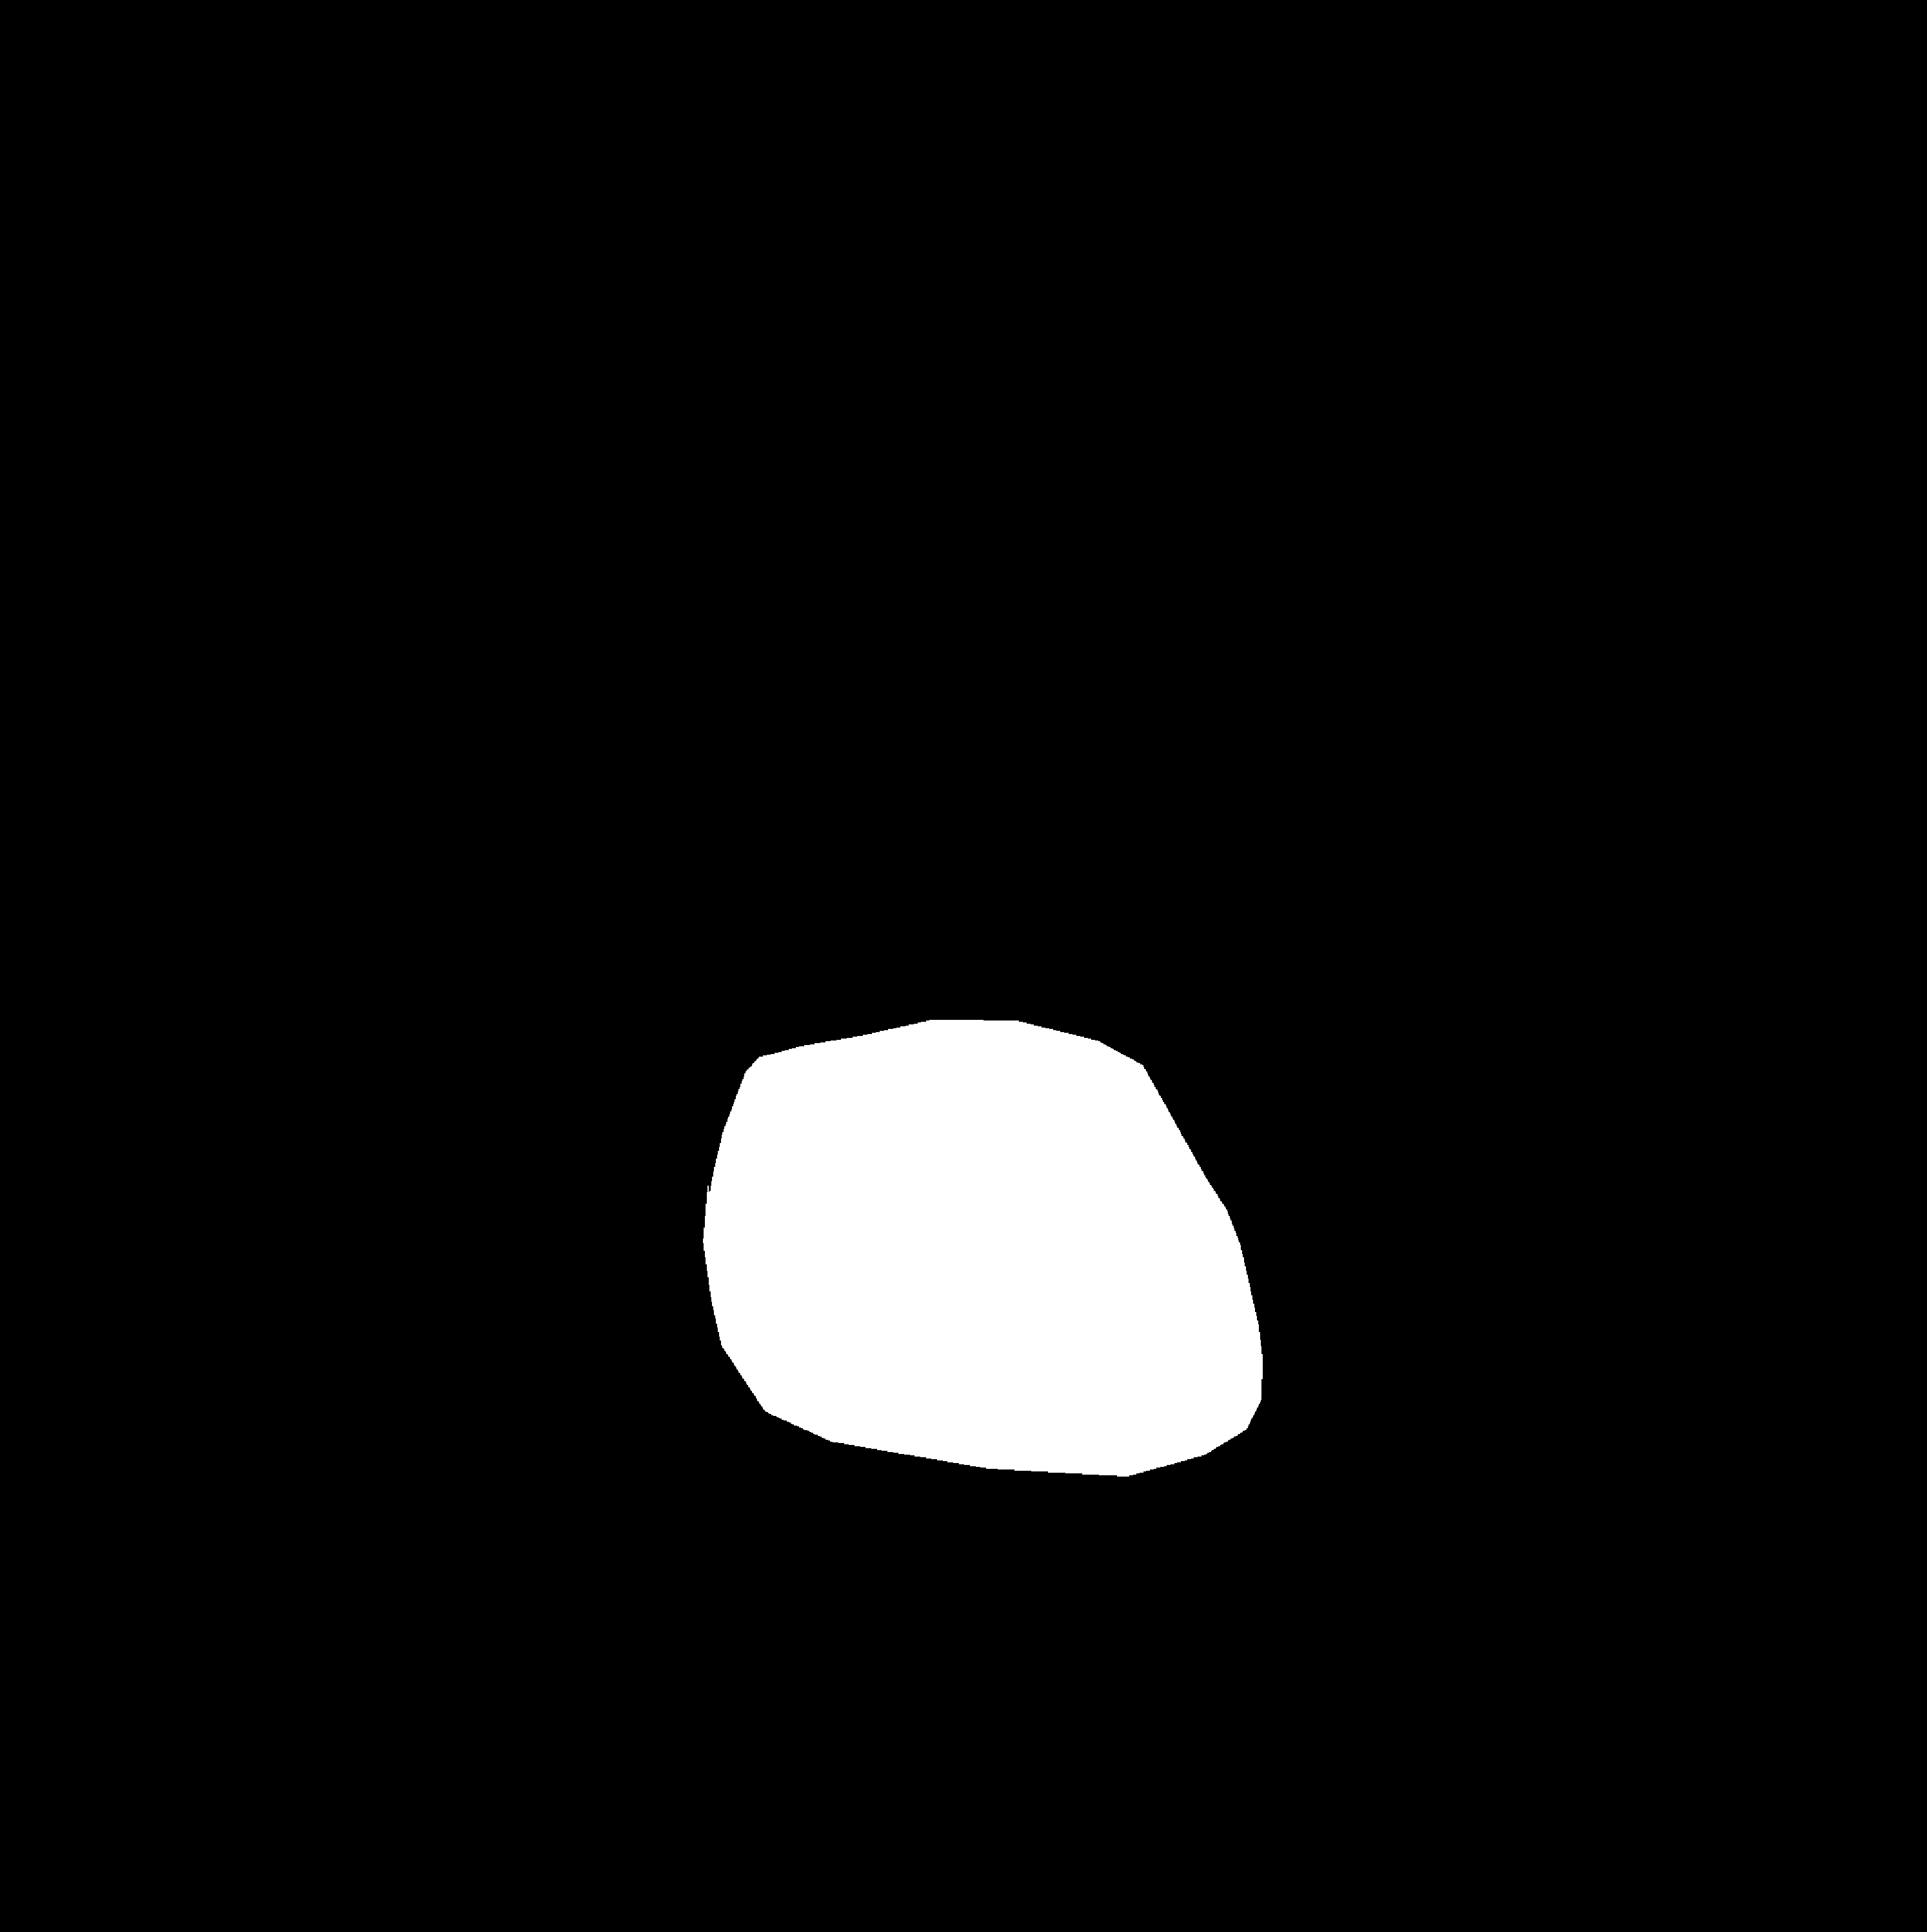heart: (704, 1090, 1260, 1493)
left_lung: (268, 386, 861, 1643)
right_lung: (986, 397, 1493, 1634)
